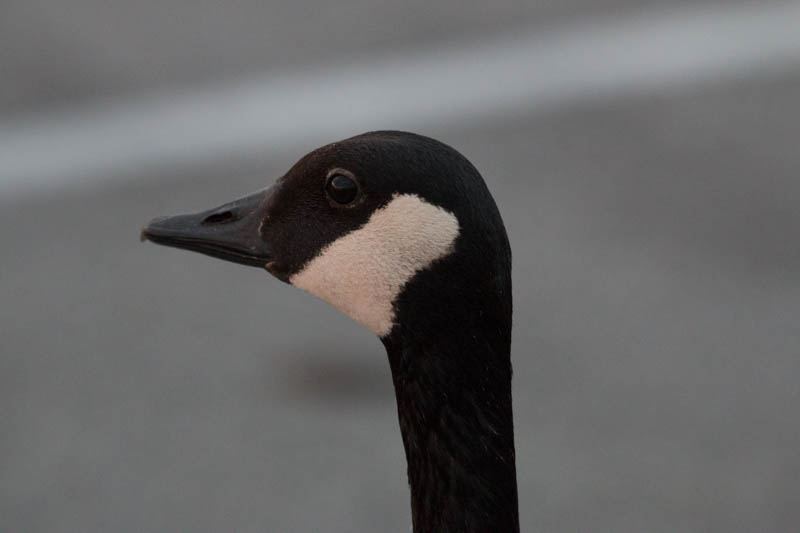goose-head: (139, 130, 513, 348)
